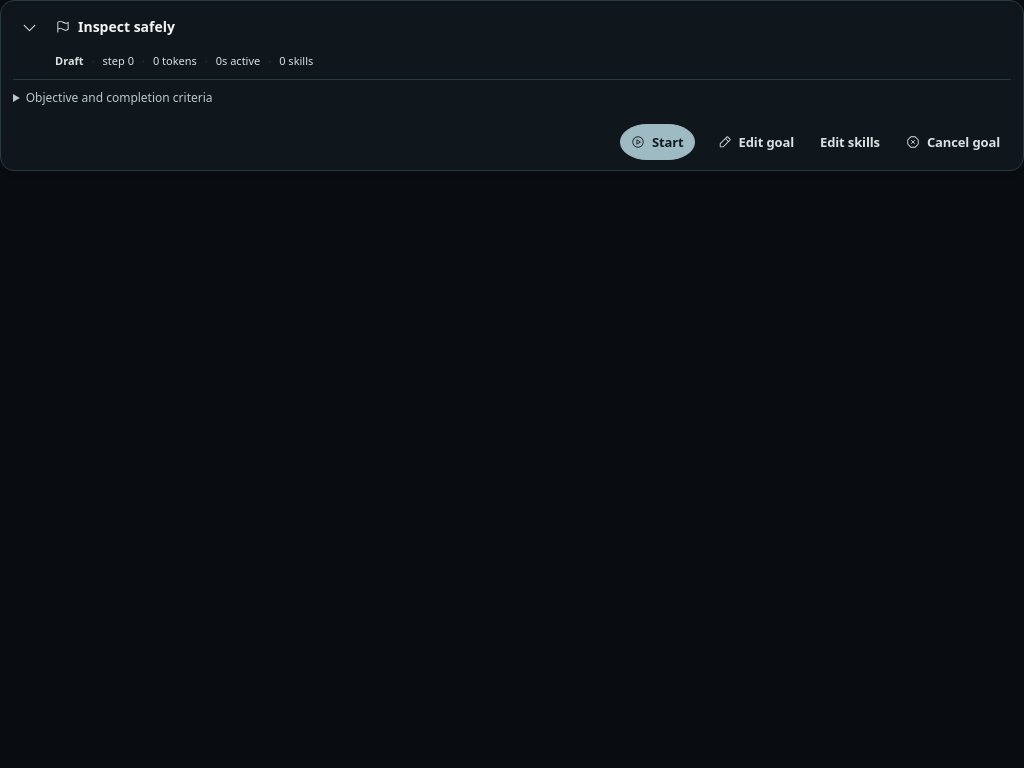
Scenario: keeps an edit draft when Core reports a newer goal revision
The image size is (1024, 768).
Click the button "Edit goal".
click(756, 142)  # box left=707, top=124, right=805, bottom=160
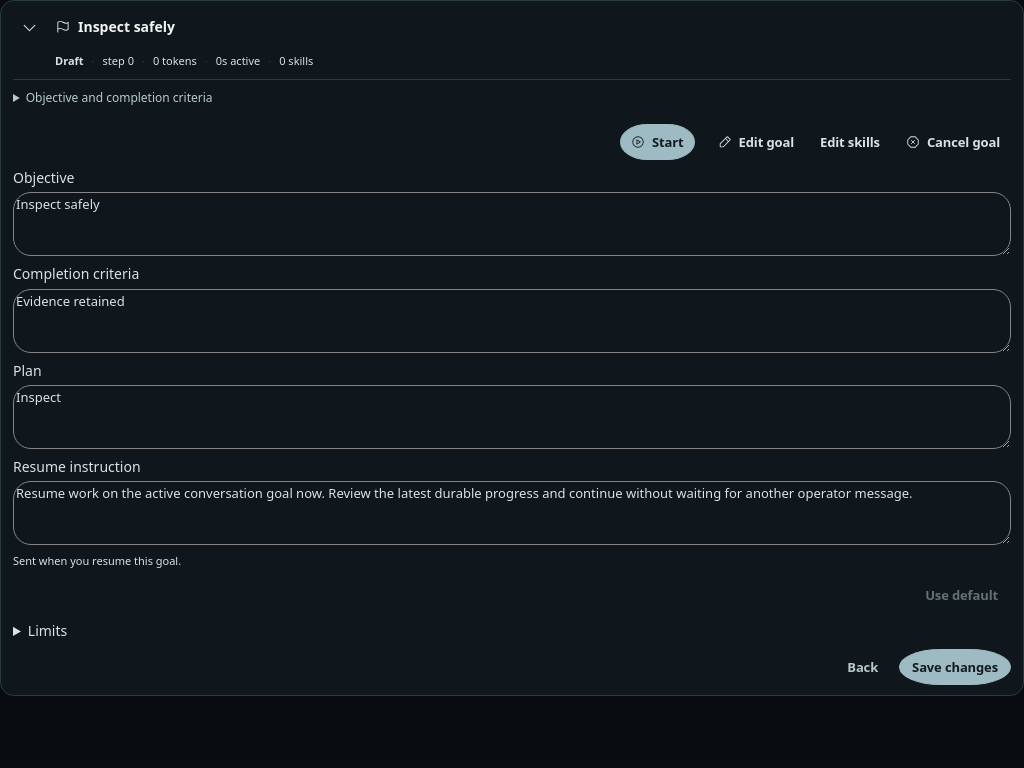
Replace the text in the text box labelled "Objective" with "Keep my draft" at (512, 224), box left=13, top=192, right=1011, bottom=256
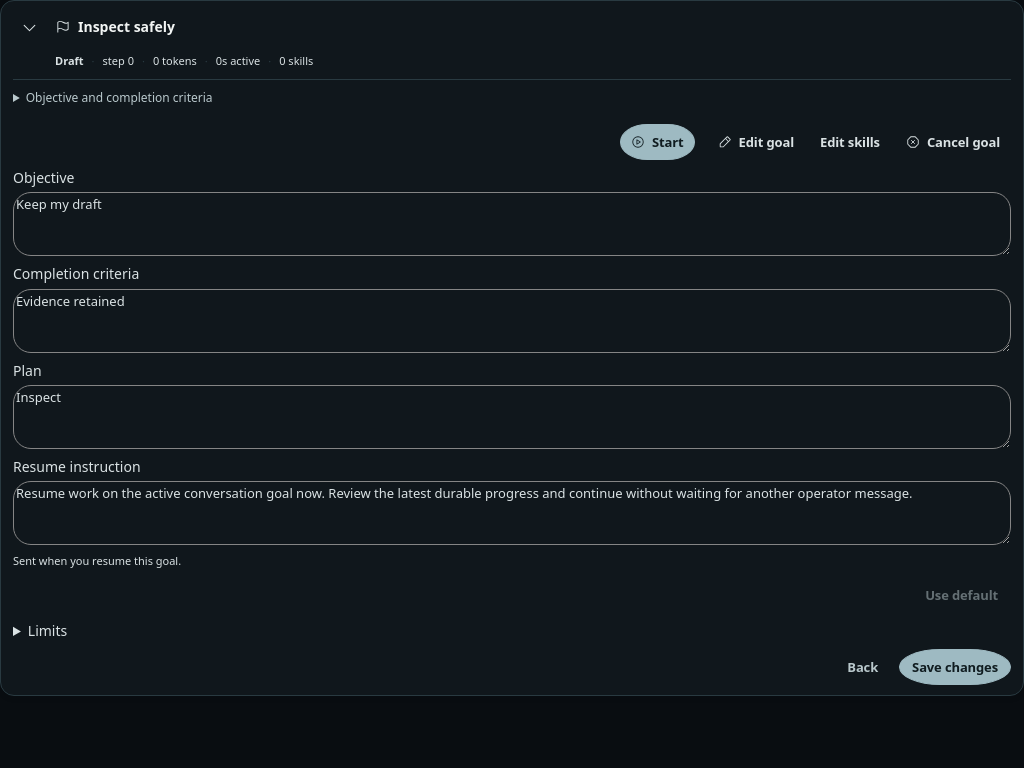
Click the button "Save changes".
click(955, 667)  # box left=899, top=649, right=1011, bottom=685
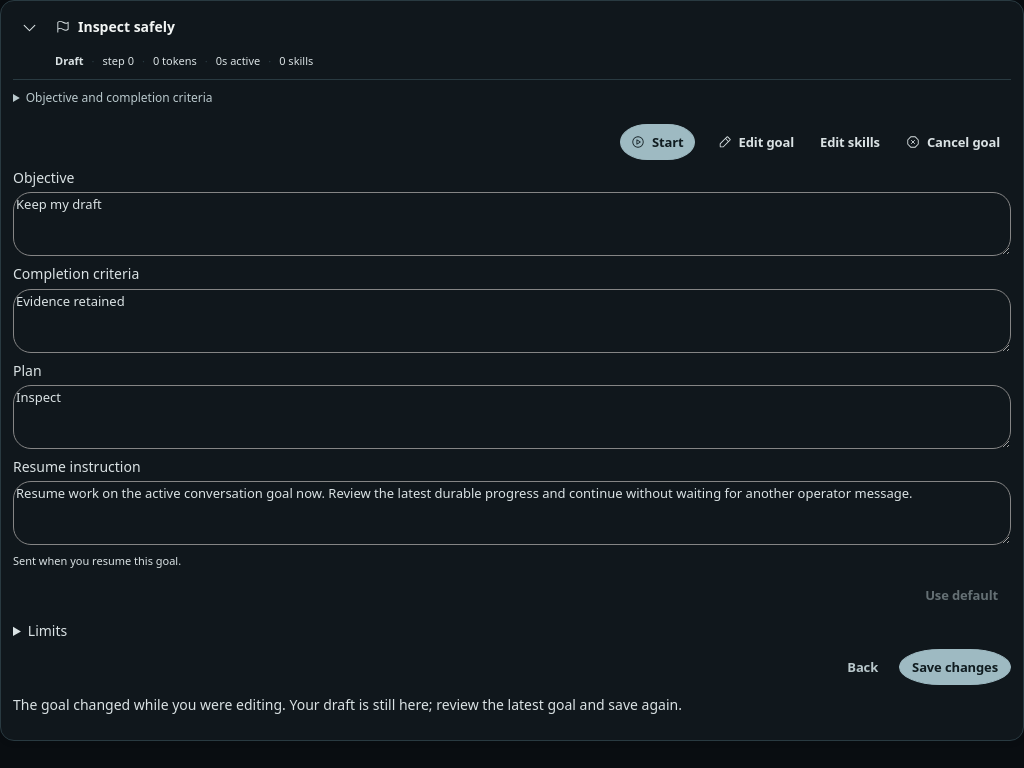
Expected: the message shows "Your draft is still here", left=13, top=695, right=682, bottom=714
